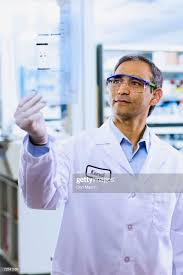Indian_Male: (103, 50, 165, 119)
